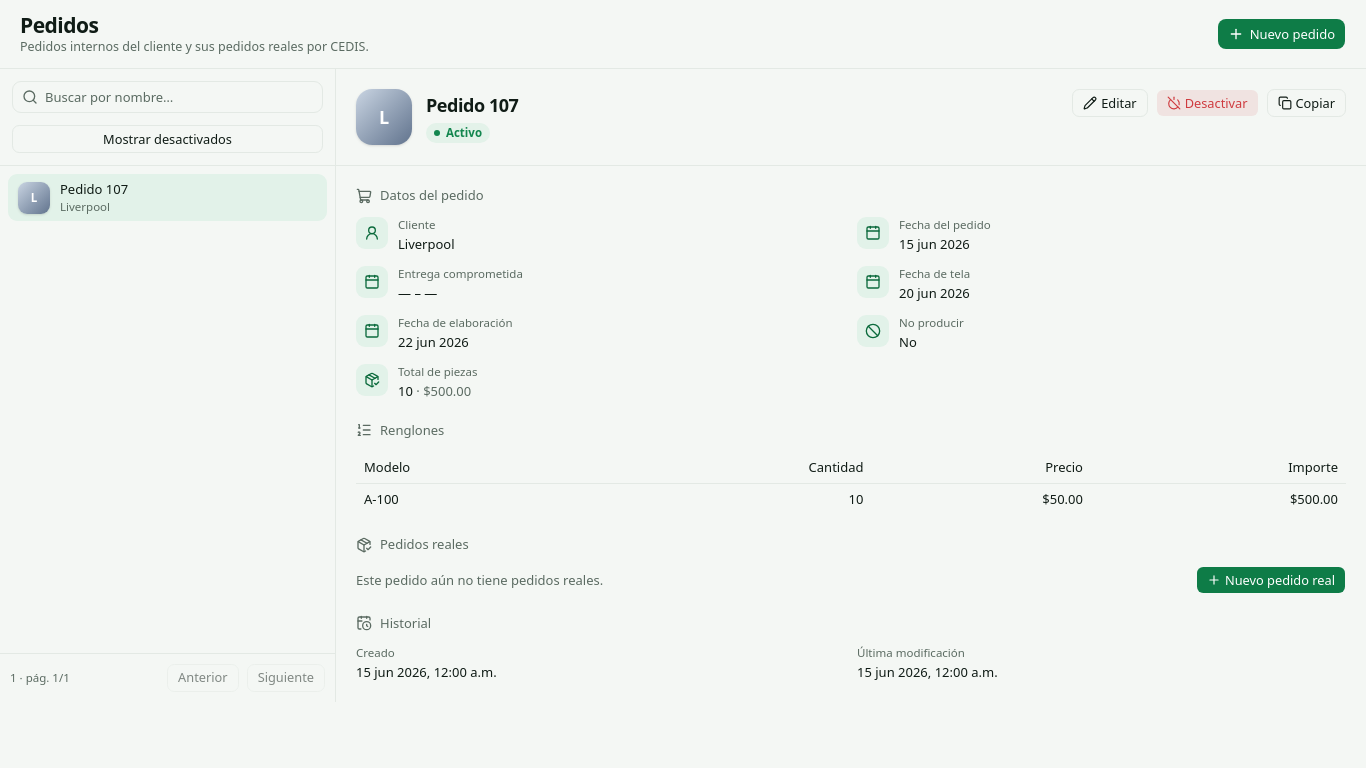
<PedidosPagina> › ⭐ cancelar dice la verdad sobre las OPs (V1-E4) › sin `ordenes.cancelar` la casilla NO se ofrece, y nada habla de permisos
The image size is (1366, 768).
Click the button with test id "desactivar-pedido".
click(1207, 103)  # box [1156,89,1258,117]
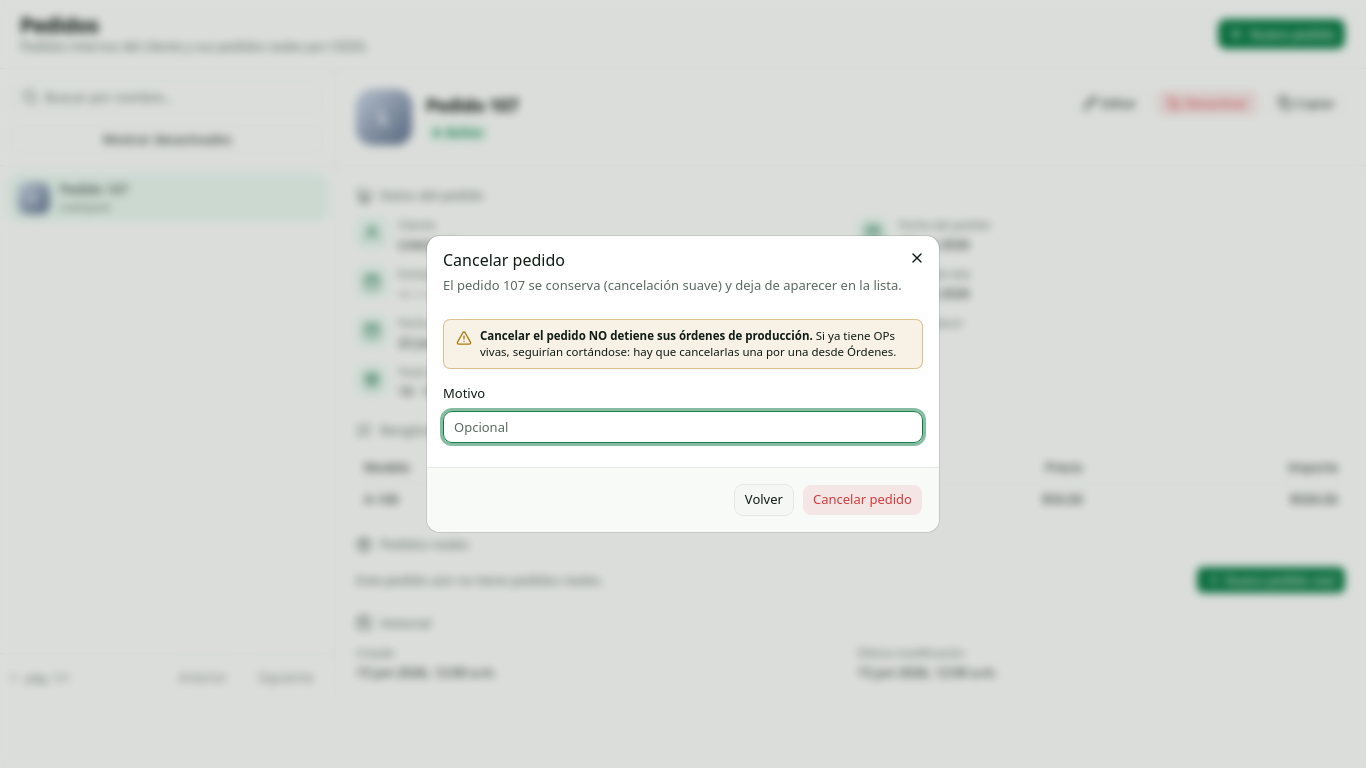
Expected: the dialog does not show "márcalas abajo", [427,236,939,532]
Result: the dialog shows "una por una desde Órdenes" at [633,344,896,359]
